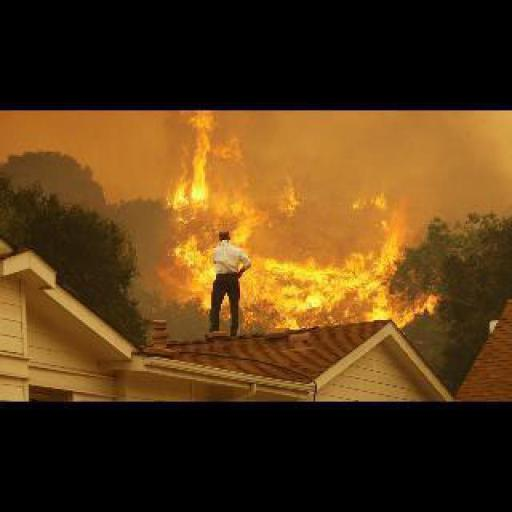smoke: (166, 112, 437, 326)
